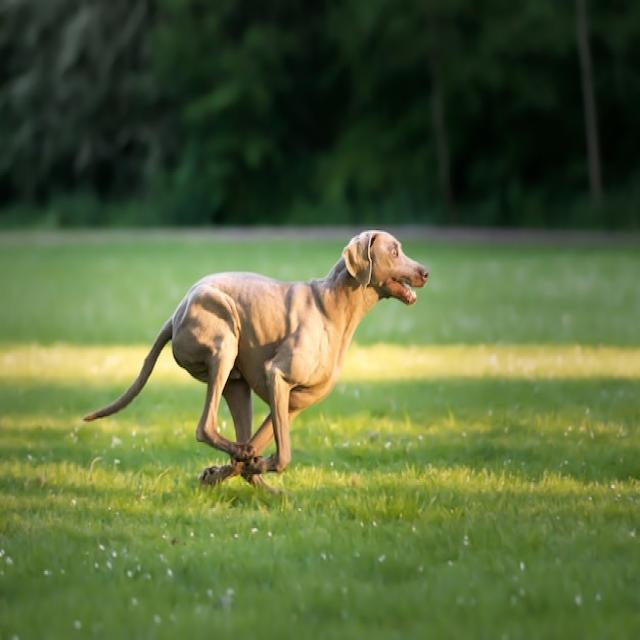Dog: (84, 230, 428, 485)
